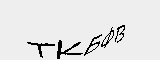М: (36, 22, 57, 39)
С: (108, 17, 128, 39)
У: (19, 17, 36, 40)
Ф: (76, 19, 106, 42)
Я: (125, 15, 145, 39)
Ә: (56, 24, 76, 42)
